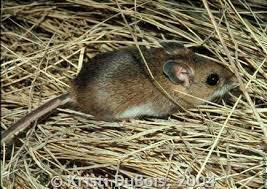rat: (2, 39, 239, 146)
